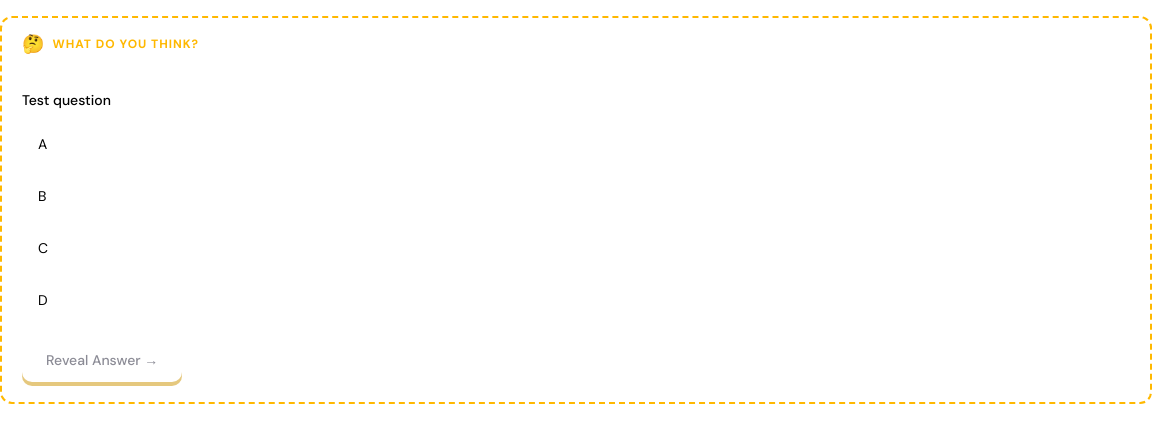
Test case: PredictionPrompt › (a) after reveal, answer is visible and aria-expanded is true
Click the button "A" at [43, 144], box x1=22 y1=122 x2=1130 y2=166
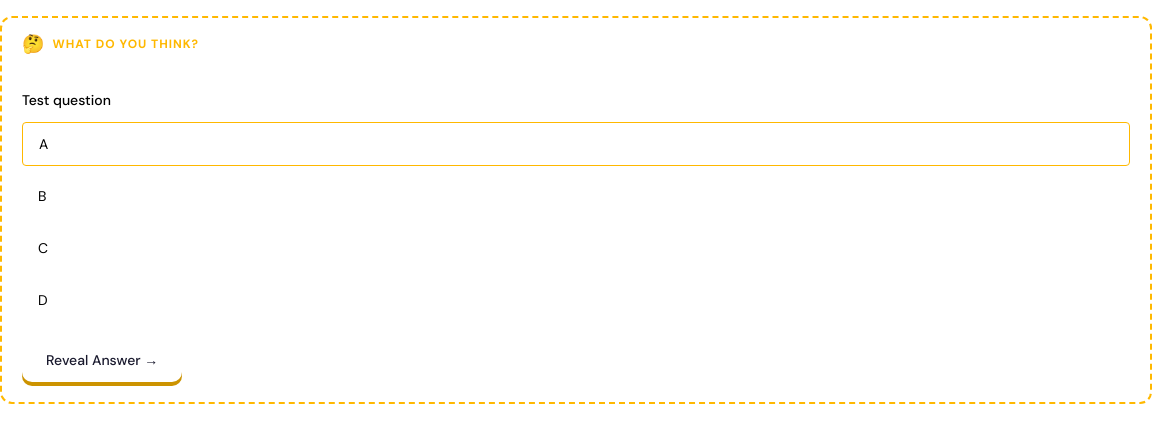
Click the button "Reveal Answer →" at [102, 360], box x1=22 y1=338 x2=182 y2=382
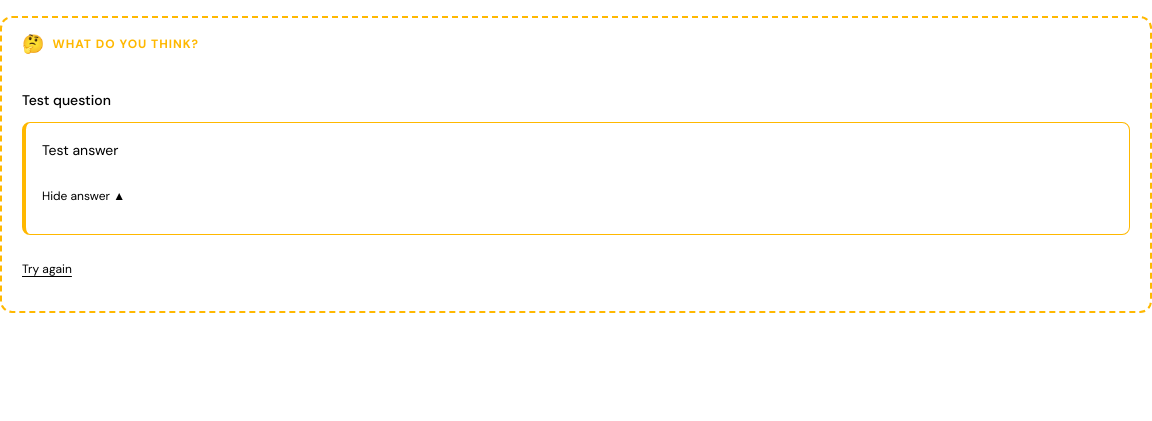
Expected: the text "Test answer" is shown, x1=42 y1=141 x2=118 y2=159
